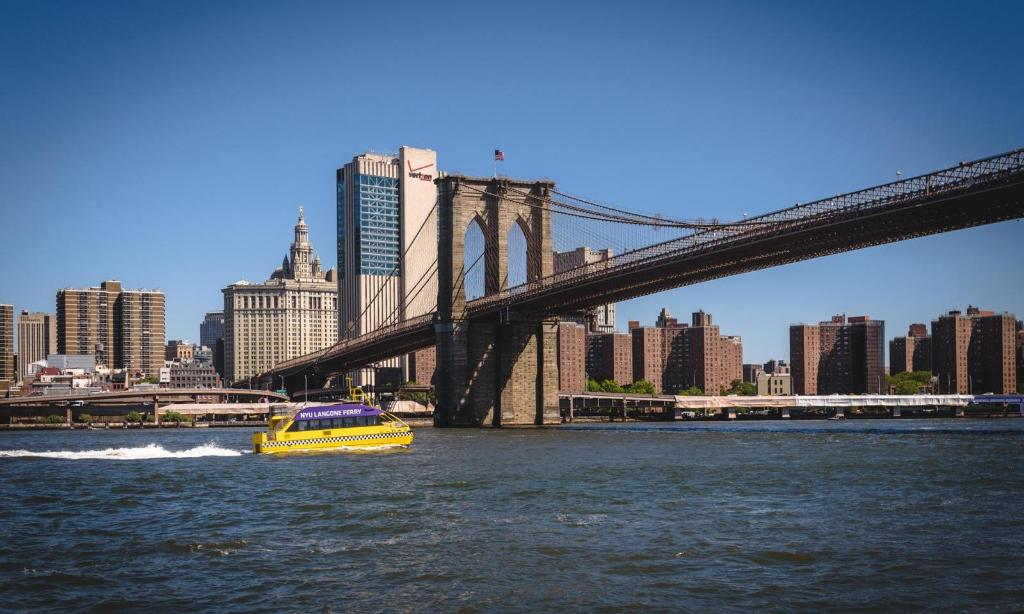PassengerShip: (244, 388, 418, 462)
